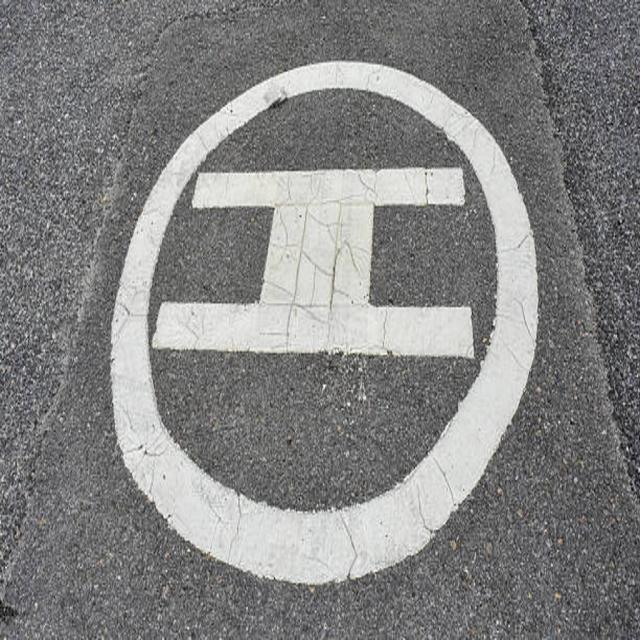helipad: (105, 58, 542, 588)
